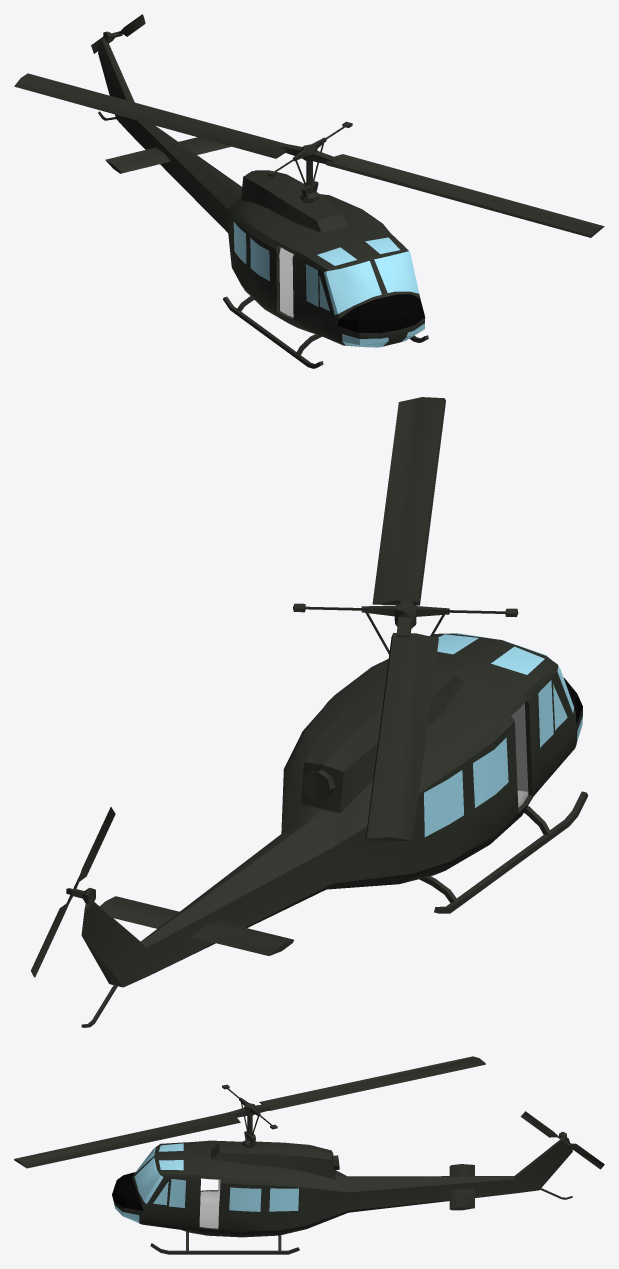
The model's file is heli.fbx.
3 views of the same model, one above another, from view 1: azimuth 30°, elevation 25°; view 2: azimuth 150°, elevation 25°; view 3: azimuth 270°, elevation 25° (orthographic). The views are drawn at different scales.
Visible parts, largest first — view 1: Bell_Huey, Top_Rotor, Inside1; view 2: Bell_Huey, Top_Rotor, Back_Rotor, Inside1; view 3: Bell_Huey, Top_Rotor, Inside1, Back_Rotor.
Part boxes in pixels (<box>): Bell_Huey: <box>98,31,428,368</box>; Top_Rotor: <box>14,73,604,237</box>; Inside1: <box>277,246,293,318</box>; Bell_Huey: <box>81,633,587,1027</box>; Top_Rotor: <box>293,397,518,841</box>; Back_Rotor: <box>31,807,115,977</box>; Inside1: <box>511,703,528,811</box>; Bell_Huey: <box>112,1131,572,1254</box>; Top_Rotor: <box>14,1056,485,1168</box>; Inside1: <box>199,1178,220,1229</box>; Back_Rotor: <box>520,1111,604,1169</box>.
Bounding box in the file's own units: 748 × 401 × 1666.
